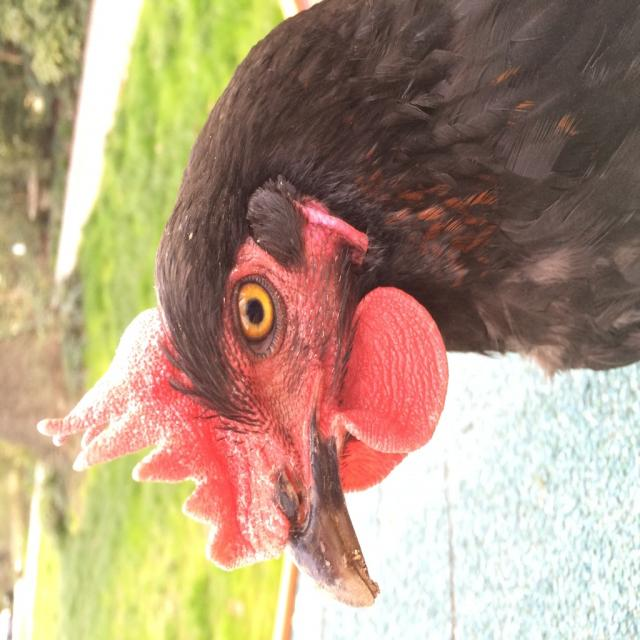Chicken: (37, 1, 632, 640)
